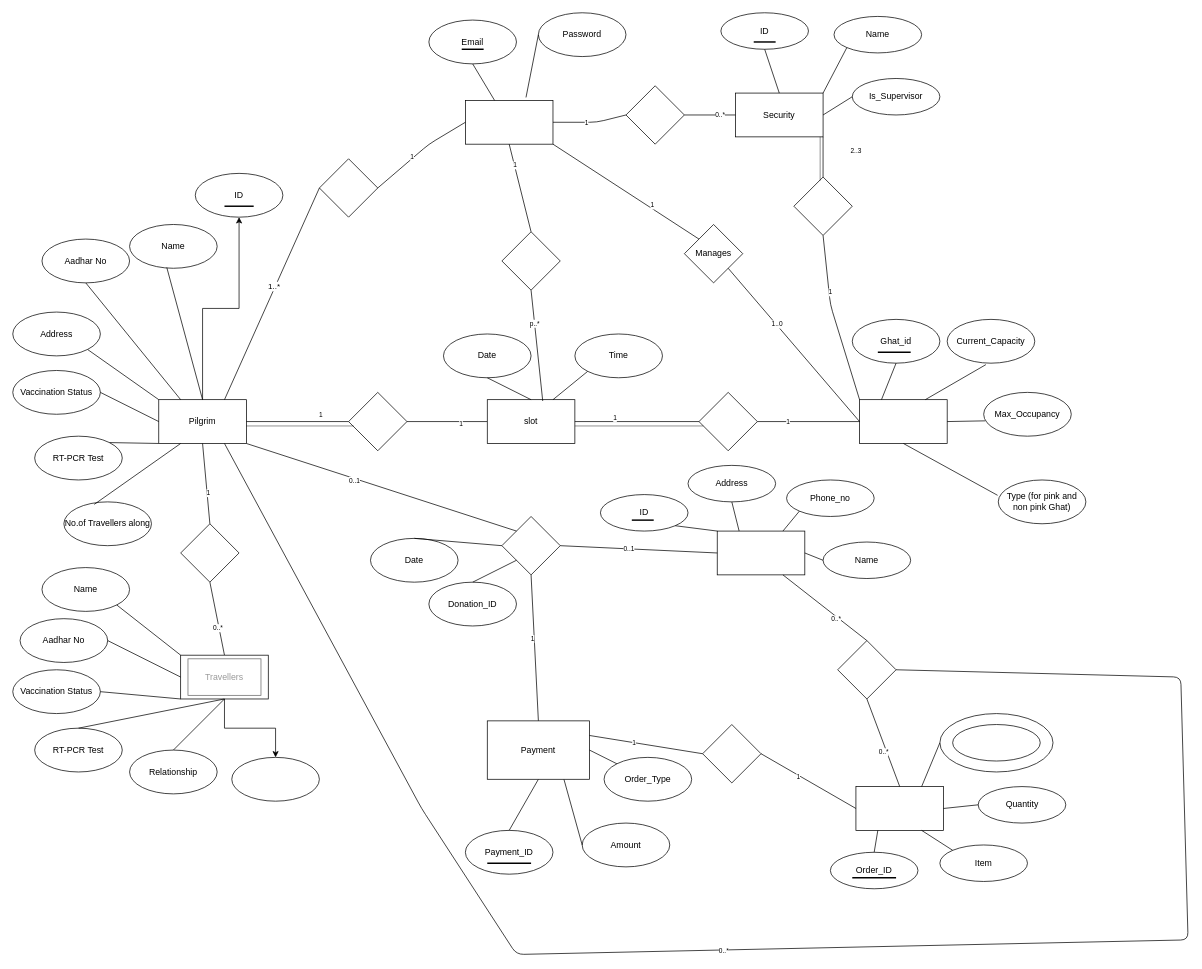
The diagram is 1202 pixels wide and 969 high, and some of its shapes have lost their labels. The shapes that lost their labels are listed below. From the top down, each one's centre as x and y in pixels, then its label:
point (509, 122): Admin
point (654, 114): Updates
point (348, 187): Checks
point (822, 205): Patrols
point (530, 260): Cancels
point (377, 421): Selects
point (727, 421): Gets
point (903, 421): Ghat
point (209, 552): Travelling along
point (530, 545): Donates
point (760, 552): At Home pilgtrim
point (866, 669): Orders
point (731, 753): Pays
point (996, 742): Grand_Total
point (275, 779): Pilgrim_ID
point (899, 808): Order
